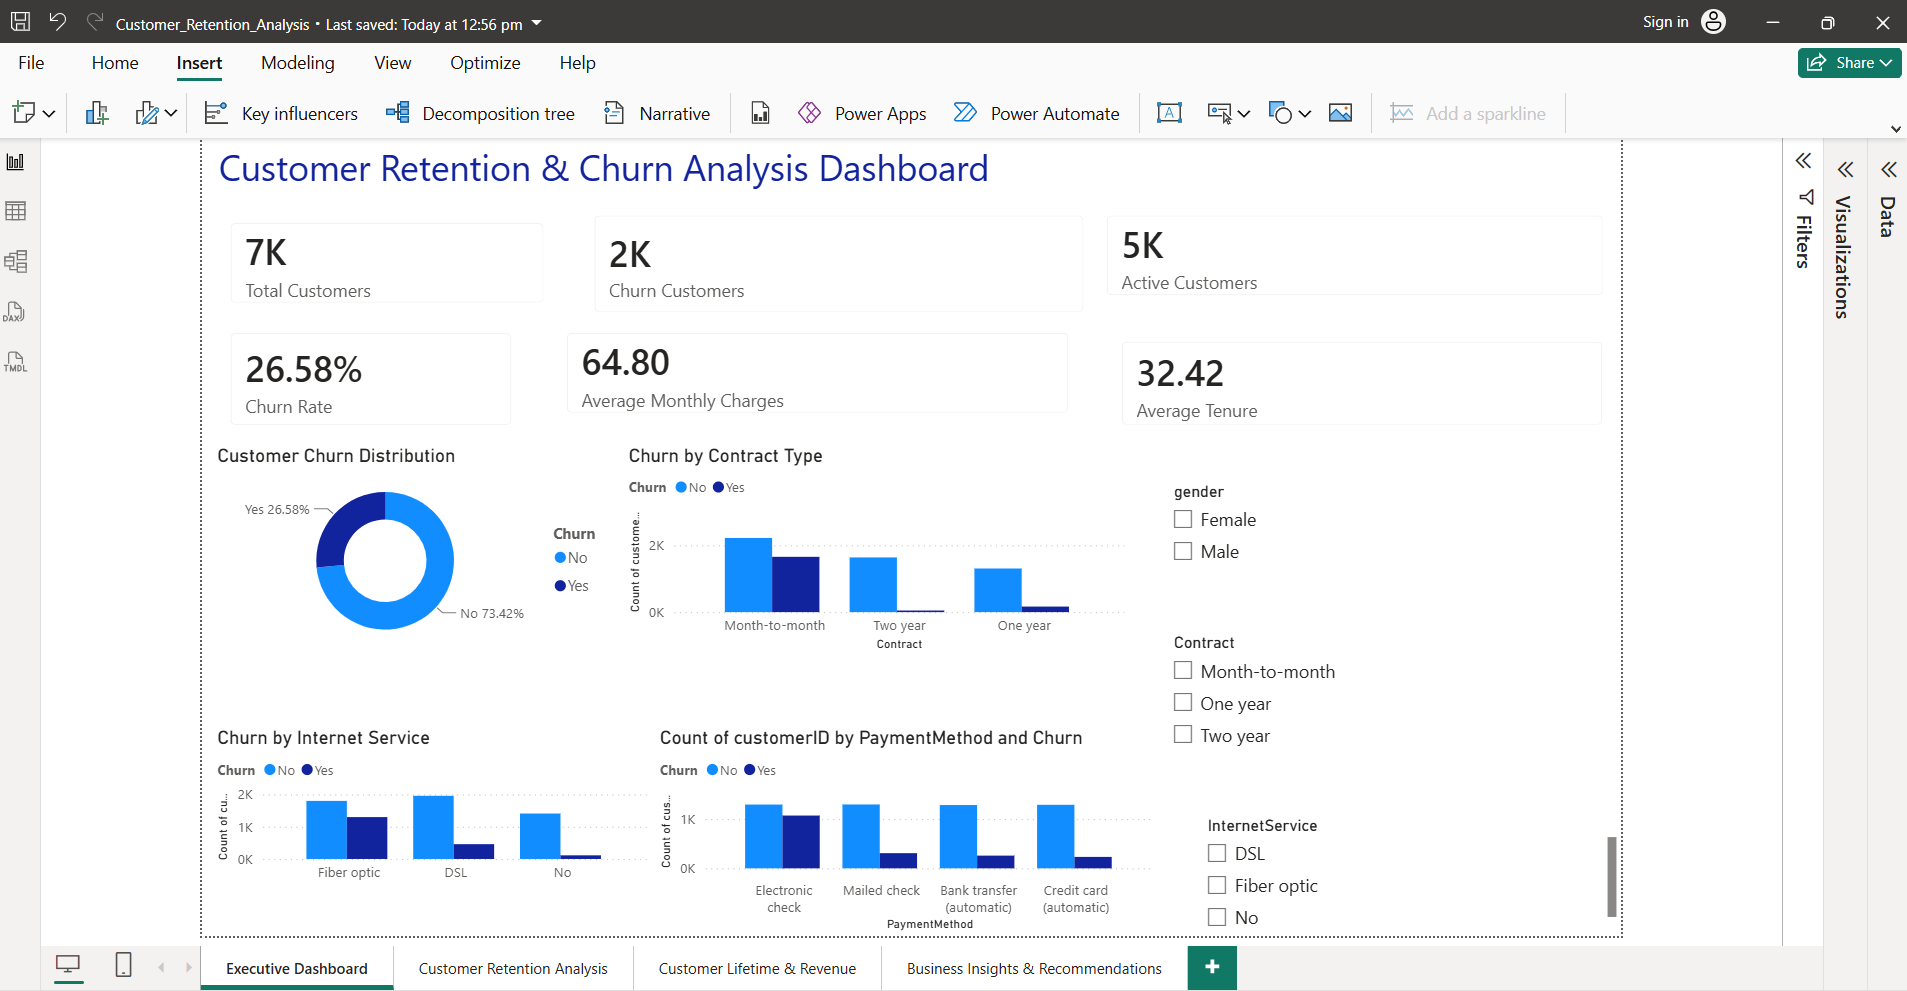

The dashboard page shown, as its layout file describes it:
{"tool":"powerbi","page":{"name":"Executive Dashboard","canvas":[1280,720],"ordinal":0},"visuals":[{"type":"textbox","box":[9.6,0,710.8,101.5],"z":0},{"type":"cardVisual","fields":{"Data":["WA_Fn-UseC_-Telco-Customer-Churn.Churn Customers"]},"box":[336.9,52.6,475.7,121.3],"z":1},{"type":"cardVisual","fields":{"Data":["WA_Fn-UseC_-Telco-Customer-Churn.Active Customers"]},"box":[799.2,52.6,481.1,106.5],"z":2},{"type":"cardVisual","fields":{"Data":["WA_Fn-UseC_-Telco-Customer-Churn.Churn Rate"]},"box":[9.4,159,287.1,117.2],"z":3},{"type":"cardVisual","fields":{"Data":["WA_Fn-UseC_-Telco-Customer-Churn.Average Monthly Charges"]},"box":[312.7,159,486.5,106.5],"z":4},{"type":"cardVisual","fields":{"Data":["WA_Fn-UseC_-Telco-Customer-Churn.Average Tenure"]},"box":[812.6,167.1,467.6,109.2],"z":5},{"type":"donutChart","title":"Customer Churn Distribution","fields":{"Category":["WA_Fn-UseC_-Telco-Customer-Churn.Churn"],"Y":["CountNonNull(WA_Fn-UseC_-Telco-Customer-Churn.customerID)"]},"box":[9.4,276.3,370.6,191.4],"z":6},{"type":"cardVisual","fields":{"Data":["WA_Fn-UseC_-Telco-Customer-Churn.Total Customers"]},"box":[9.4,59.3,316.7,106.5],"z":7},{"type":"clusteredColumnChart","title":"Churn by Contract Type","fields":{"Category":["WA_Fn-UseC_-Telco-Customer-Churn.Contract"],"Y":["CountNonNull(WA_Fn-UseC_-Telco-Customer-Churn.customerID)"],"Series":["WA_Fn-UseC_-Telco-Customer-Churn.Churn"]},"box":[380,276.3,456.9,191.4],"z":8},{"type":"clusteredColumnChart","title":"Churn by Internet Service","fields":{"Category":["WA_Fn-UseC_-Telco-Customer-Churn.InternetService"],"Y":["CountNonNull(WA_Fn-UseC_-Telco-Customer-Churn.customerID)"],"Series":["WA_Fn-UseC_-Telco-Customer-Churn.Churn"]},"box":[9.4,530.4,398.5,149.4],"z":9},{"type":"clusteredColumnChart","fields":{"Category":["WA_Fn-UseC_-Telco-Customer-Churn.PaymentMethod"],"Y":["CountNonNull(WA_Fn-UseC_-Telco-Customer-Churn.customerID)"],"Series":["WA_Fn-UseC_-Telco-Customer-Churn.Churn"]},"box":[408.3,531,455.5,188.7],"z":11},{"type":"slicer","fields":{"Values":["WA_Fn-UseC_-Telco-Customer-Churn.gender"]},"box":[863.8,305.9,416.4,132.1],"z":12},{"type":"slicer","fields":{"Values":["WA_Fn-UseC_-Telco-Customer-Churn.Contract"]},"box":[863.8,442,416.4,118.6],"z":13},{"type":"slicer","fields":{"Values":["WA_Fn-UseC_-Telco-Customer-Churn.InternetService"]},"box":[893.5,606.4,386.8,113.2],"z":14}]}

Visuals, with their boxes on the page's 1280x720 design canvas (x1, y1, x2, y2). These are canvas units, not pixel positions in the 1907x991 screenshot, which may show the page scaled, cropped or inside an application window:
textbox: region(10, 0, 720, 102)
cardVisual - WA_Fn-UseC_-Telco-Customer-Churn.Churn Customers: region(337, 53, 813, 174)
cardVisual - WA_Fn-UseC_-Telco-Customer-Churn.Active Customers: region(799, 53, 1280, 159)
cardVisual - WA_Fn-UseC_-Telco-Customer-Churn.Churn Rate: region(9, 159, 296, 276)
cardVisual - WA_Fn-UseC_-Telco-Customer-Churn.Average Monthly Charges: region(313, 159, 799, 266)
cardVisual - WA_Fn-UseC_-Telco-Customer-Churn.Average Tenure: region(813, 167, 1280, 276)
"Customer Churn Distribution" donutChart: region(9, 276, 380, 468)
cardVisual - WA_Fn-UseC_-Telco-Customer-Churn.Total Customers: region(9, 59, 326, 166)
"Churn by Contract Type" clusteredColumnChart: region(380, 276, 837, 468)
"Churn by Internet Service" clusteredColumnChart: region(9, 530, 408, 680)
clusteredColumnChart - WA_Fn-UseC_-Telco-Customer-Churn.PaymentMethod x CountNonNull(WA_Fn-UseC_-Telco-Customer-Churn.customerID): region(408, 531, 864, 720)
slicer - WA_Fn-UseC_-Telco-Customer-Churn.gender: region(864, 306, 1280, 438)
slicer - WA_Fn-UseC_-Telco-Customer-Churn.Contract: region(864, 442, 1280, 561)
slicer - WA_Fn-UseC_-Telco-Customer-Churn.InternetService: region(894, 606, 1280, 720)
